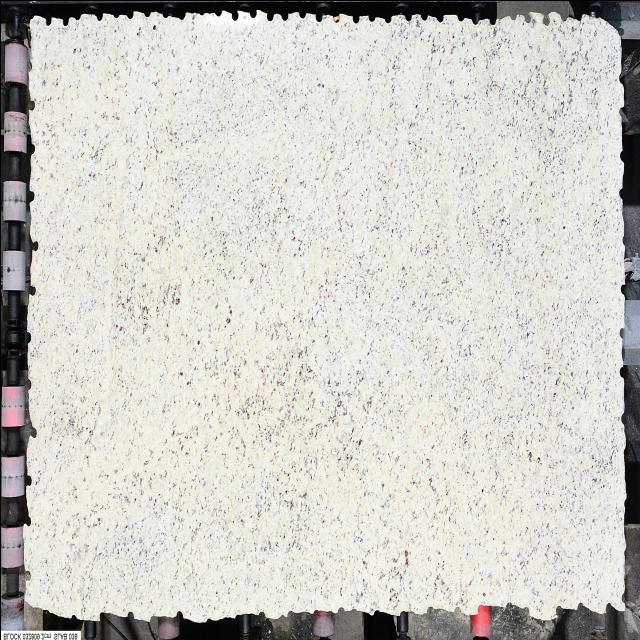chapa: (21, 9, 627, 624)
veio: (28, 236, 39, 254), (26, 283, 37, 299), (22, 511, 32, 528), (540, 12, 550, 29), (22, 565, 31, 582), (43, 13, 53, 28), (381, 12, 393, 24), (486, 14, 498, 26), (28, 423, 38, 437), (60, 14, 70, 28), (522, 11, 532, 25), (23, 473, 32, 488), (230, 9, 240, 22), (28, 96, 36, 112), (94, 10, 104, 22), (264, 12, 274, 22), (312, 12, 322, 22), (248, 8, 256, 20), (332, 12, 340, 24), (436, 12, 444, 24), (280, 10, 288, 21), (352, 14, 359, 26), (620, 285, 624, 297)
